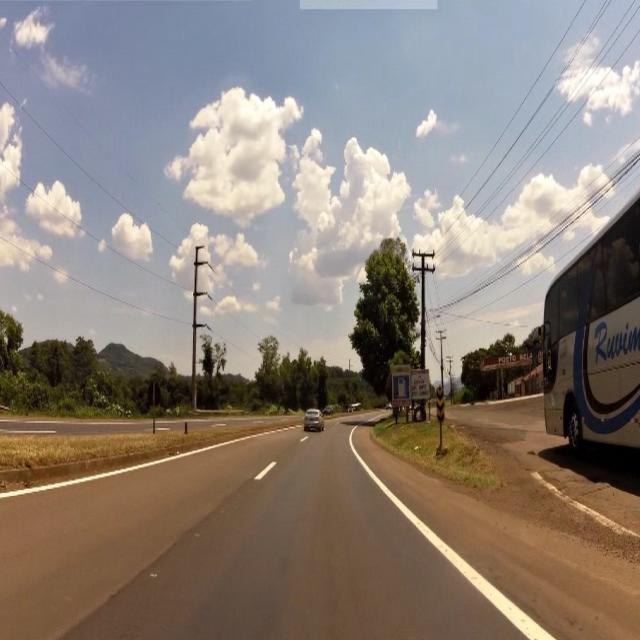MP: (436, 386, 444, 424)
